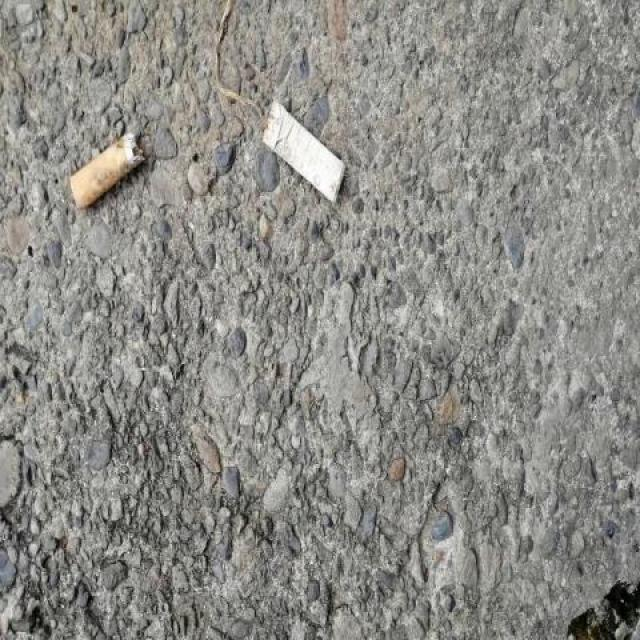non-organic waste: (257, 94, 350, 206), (68, 128, 148, 212)
